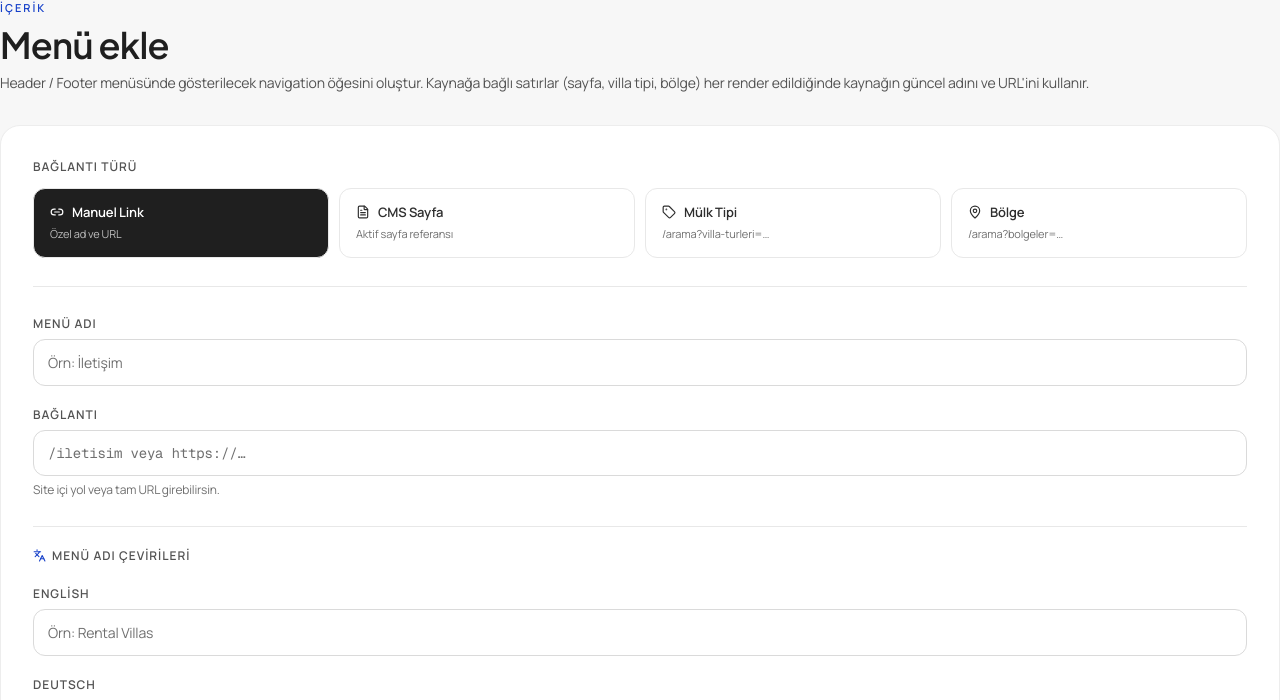
Test case: /maki-admin/menu/new — TR + EN + DE › 17-0) 'CMS Sayfa' türü seçilince EN/DE alanları GİZLENİR
The width and height of the screenshot is (1280, 700).
Expected: the field named "English" is shown, [33,608,1247,656]
What coordinates should you click on to do the following:
click the text "CMS Sayfa"
I would click on:
 (411, 212)
Its box is [378,202,443,222].
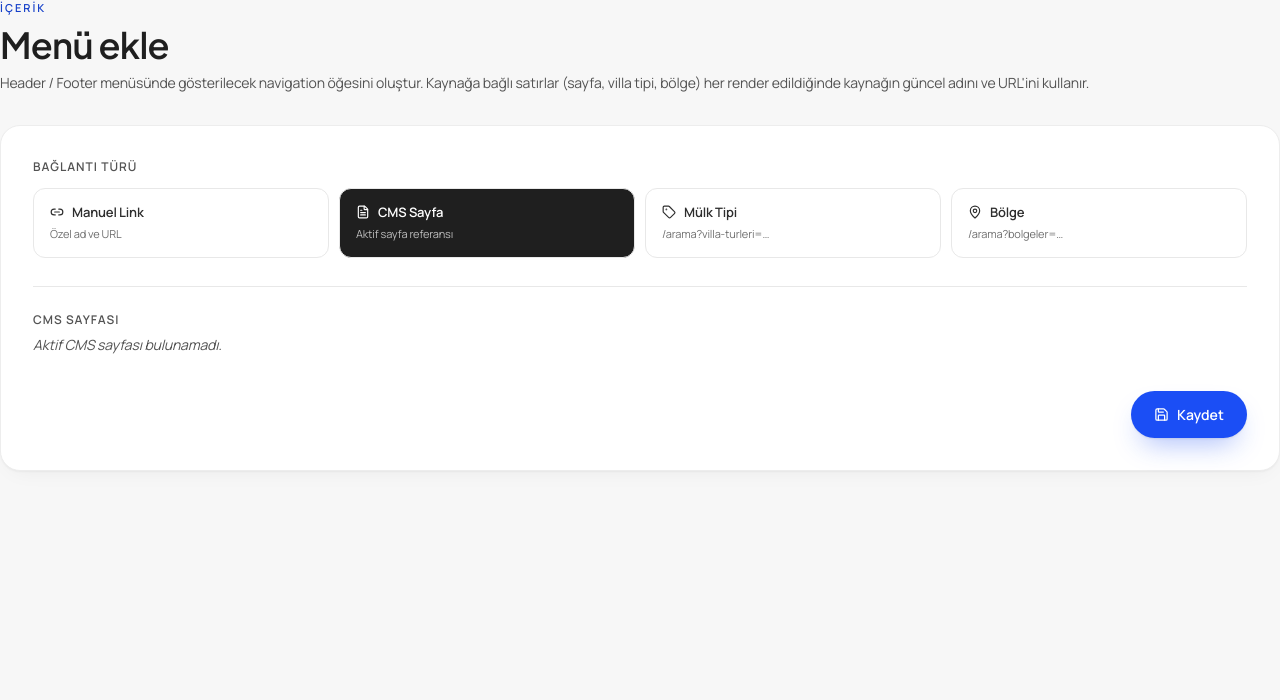
Expected: the label labelled "English" is gone
Expected: the label labelled "Deutsch" is gone
